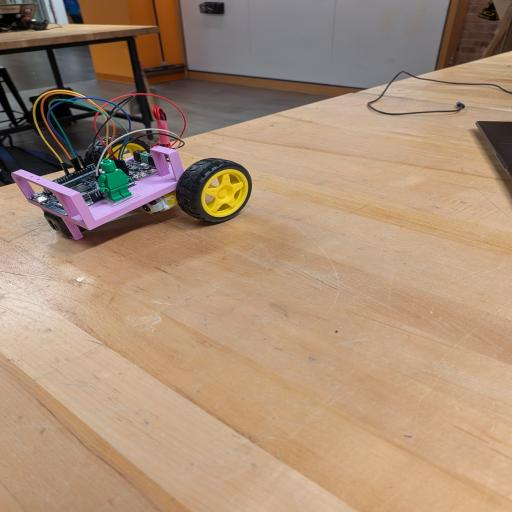Minifig: (98, 159, 132, 202)
